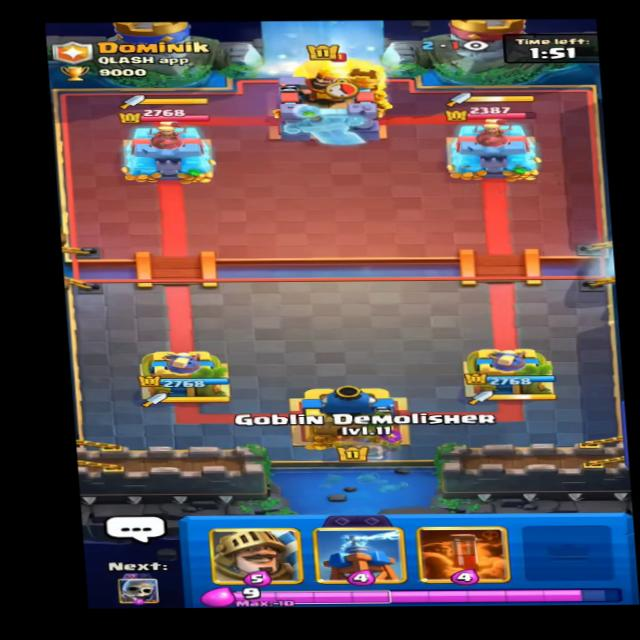Giant: (283, 51, 394, 87)
